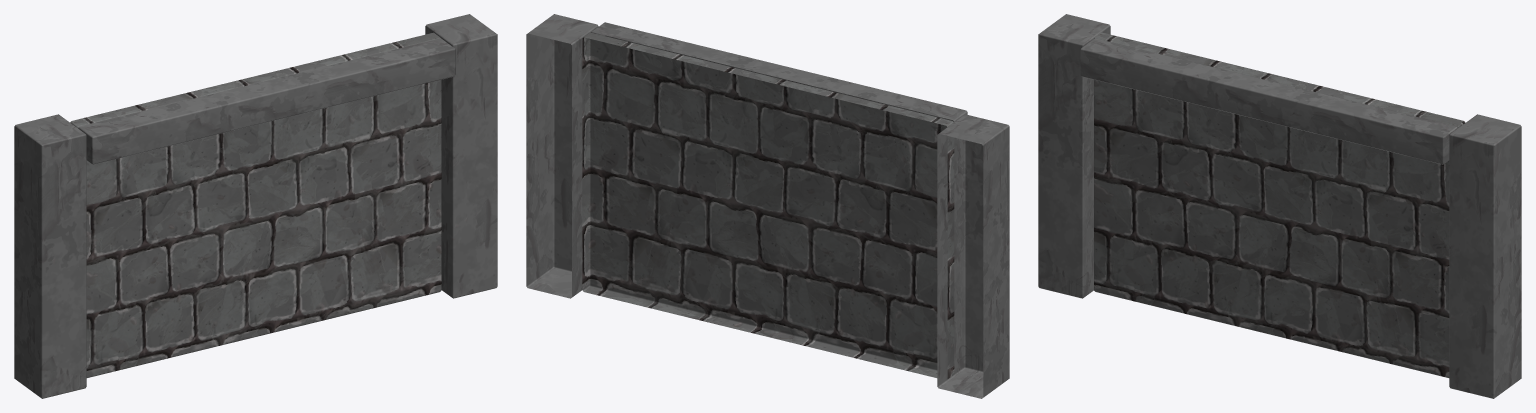
File: Big_wall_V1.fbx
The picture shows the model from 3 angles, left to right: view 1: azimuth 30°, elevation 25°; view 2: azimuth 150°, elevation 25°; view 3: azimuth 330°, elevation 25°; orthographic projection.
Parts seen in each view (by area): view 1: Big_wall_V1; view 2: Big_wall_V1; view 3: Big_wall_V1.
Boxes of the visible parts, left/top/right/bottom form: Big_wall_V1: left=14, top=14, right=497, bottom=398; Big_wall_V1: left=526, top=14, right=1009, bottom=398; Big_wall_V1: left=1038, top=14, right=1521, bottom=398.
Bounding box in the file's own units: 1501 × 799 × 181.
